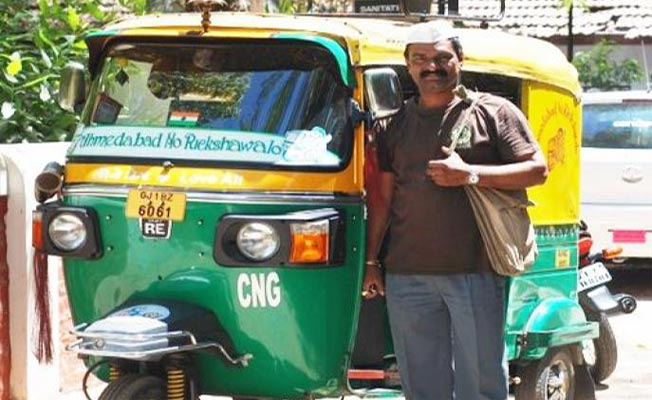auto: (38, 12, 360, 400)
